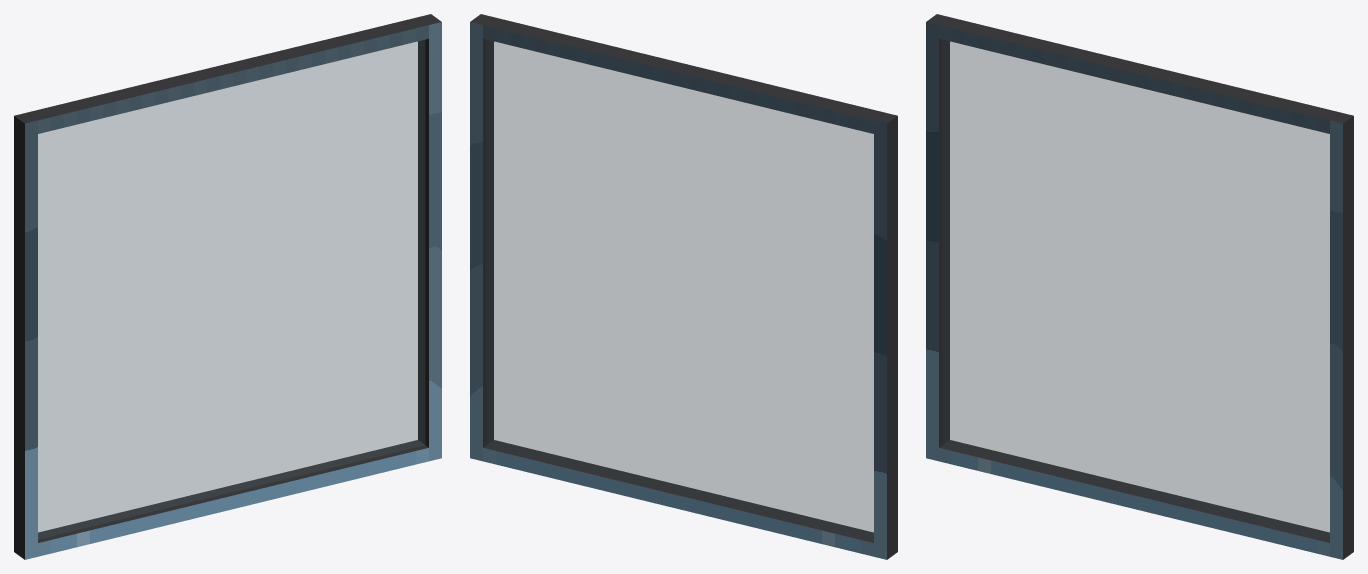
The model's file is windoor.glb.
The picture shows the model from 3 angles, left to right: view 1: azimuth 30°, elevation 25°; view 2: azimuth 150°, elevation 25°; view 3: azimuth 330°, elevation 25°; orthographic projection.
Parts seen in each view (by area): view 1: Sliding_Glass_Door; view 2: Sliding_Glass_Door; view 3: Sliding_Glass_Door.
Part boxes in pixels (box(x1,y1,x2,y2)): Sliding_Glass_Door: box(14, 14, 441, 559); Sliding_Glass_Door: box(470, 14, 897, 559); Sliding_Glass_Door: box(926, 14, 1353, 559).
Size of the model in its own units: 2 by 2 by 0.09.
3 materials, 1 textured.
